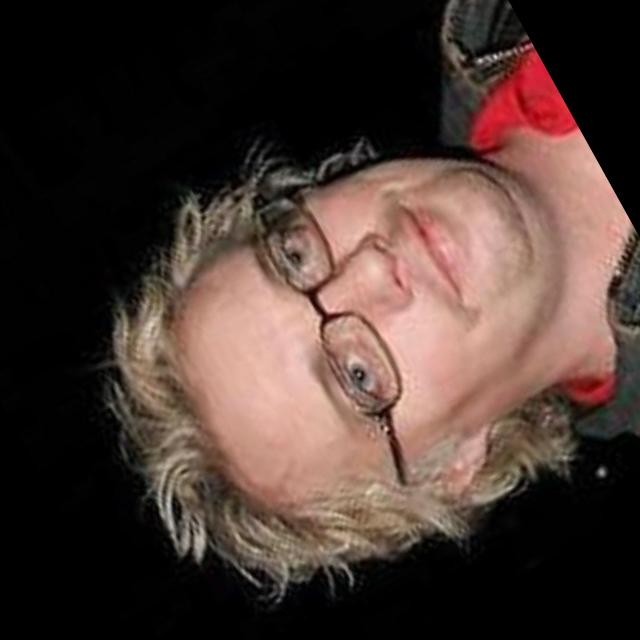bareface: (92, 80, 614, 572)
